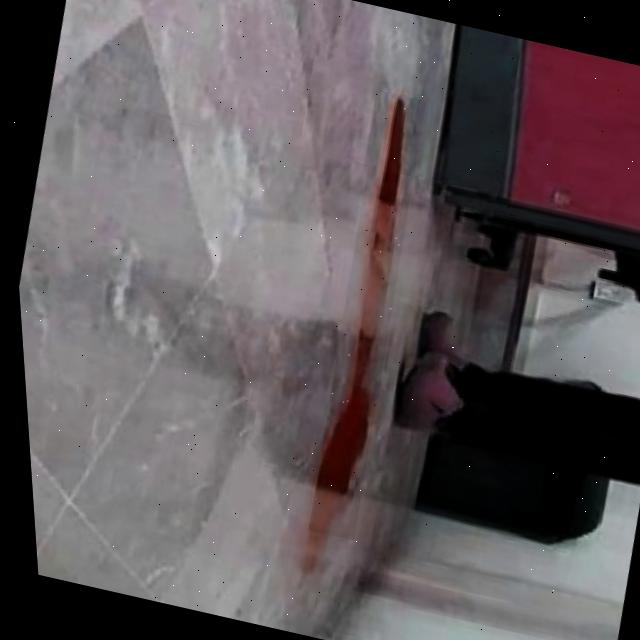spillage: (305, 94, 407, 530)
